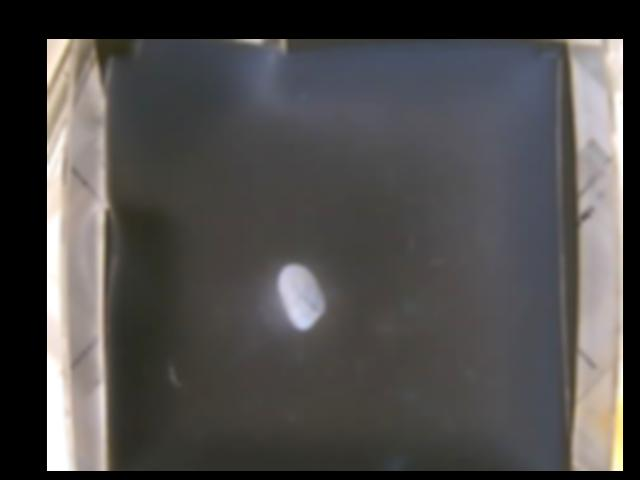Pebble: (277, 263, 325, 330)
